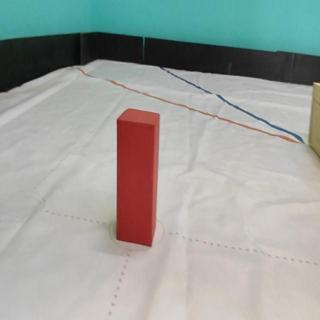redbox: (116, 107, 160, 246)
